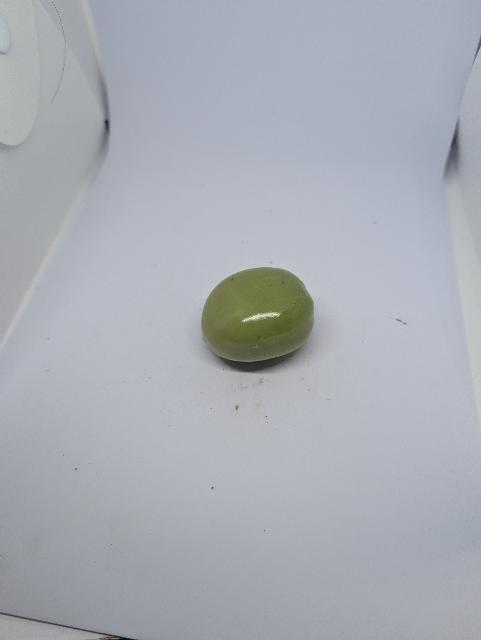green: (198, 265, 318, 366)
